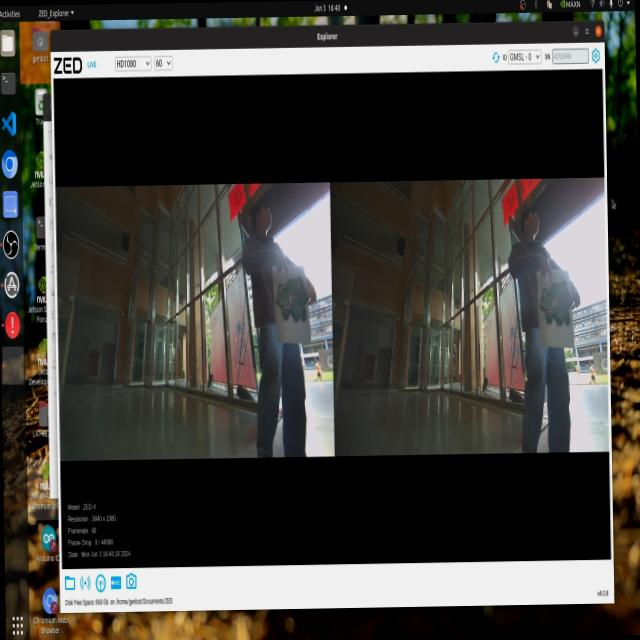green: (536, 272, 580, 340), (271, 272, 311, 326)
